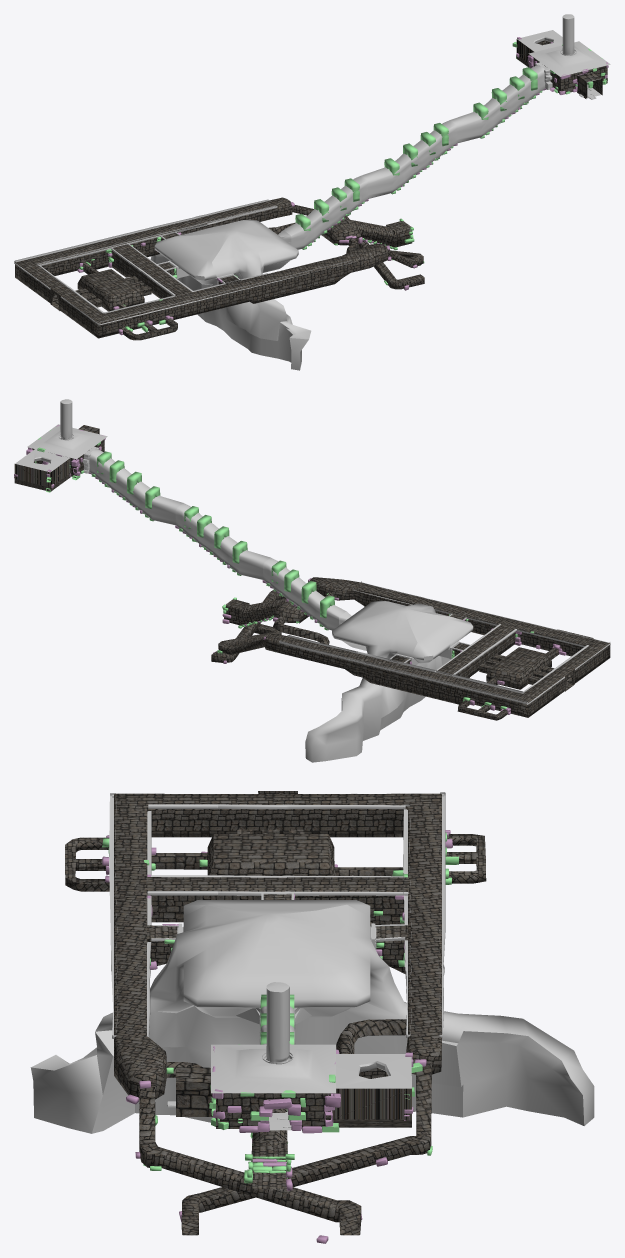
The model's file is TombLevelpart2_1.FBX.
The picture shows the model from 3 angles, top to bottom: view 1: azimuth 30°, elevation 25°; view 2: azimuth 150°, elevation 25°; view 3: azimuth 270°, elevation 25°; orthographic projection. The views are drawn at different scales.
Parts seen in each view (by area): view 1: Tomb2_Alley1, Tomb2_RoomGaze, TombR_CenterR5, Tomb2_SupportWall, Tomb_Alley007, Tomb_Alley008, Tomb_Alley006, Tomb2_Rock, TombT_Down003, TombT_Down002, TombT_Down001; view 2: Tomb2_Alley1, Tomb2_RoomGaze, TombR_CenterR5, Tomb2_SupportWall, Tomb_Alley007, Tomb_Alley008, Tomb_Alley006, TombT_Down001, TombT_Down002, TombT_Down003, Tomb2_Rock; view 3: Tomb2_Alley1, Tomb2_RoomGaze, TombR_CenterR5, Tomb2_SupportWall, Tomb2_Rock.
Boxes of the visible parts, x1,y1,x2,y2 form: Tomb2_Alley1: (15, 197, 424, 340); Tomb2_RoomGaze: (150, 219, 311, 370); TombR_CenterR5: (512, 14, 610, 99); Tomb2_SupportWall: (14, 199, 352, 325); Tomb_Alley007: (361, 120, 456, 198); Tomb_Alley008: (450, 64, 545, 143); Tomb_Alley006: (283, 176, 368, 249); Tomb2_Rock: (77, 202, 424, 335); TombT_Down003: (473, 67, 537, 119); TombT_Down002: (384, 123, 448, 175); TombT_Down001: (295, 178, 359, 230); Tomb2_Alley1: (211, 577, 610, 720); Tomb2_RoomGaze: (305, 600, 473, 762); TombR_CenterR5: (14, 399, 107, 492); Tomb2_SupportWall: (279, 581, 610, 704); Tomb_Alley007: (175, 503, 270, 579); Tomb_Alley008: (89, 448, 182, 525); Tomb_Alley006: (263, 558, 346, 630); TombT_Down001: (271, 560, 334, 618); TombT_Down002: (184, 506, 247, 563); TombT_Down003: (97, 451, 160, 508); Tomb2_Rock: (213, 578, 566, 714); Tomb2_Alley1: (65, 791, 486, 1235); Tomb2_RoomGaze: (30, 900, 594, 1133); TombR_CenterR5: (167, 982, 422, 1133); Tomb2_SupportWall: (109, 792, 445, 1038); Tomb2_Rock: (102, 830, 459, 1243).
Bounding box in the file's own units: 13343 × 5380 × 6115.
